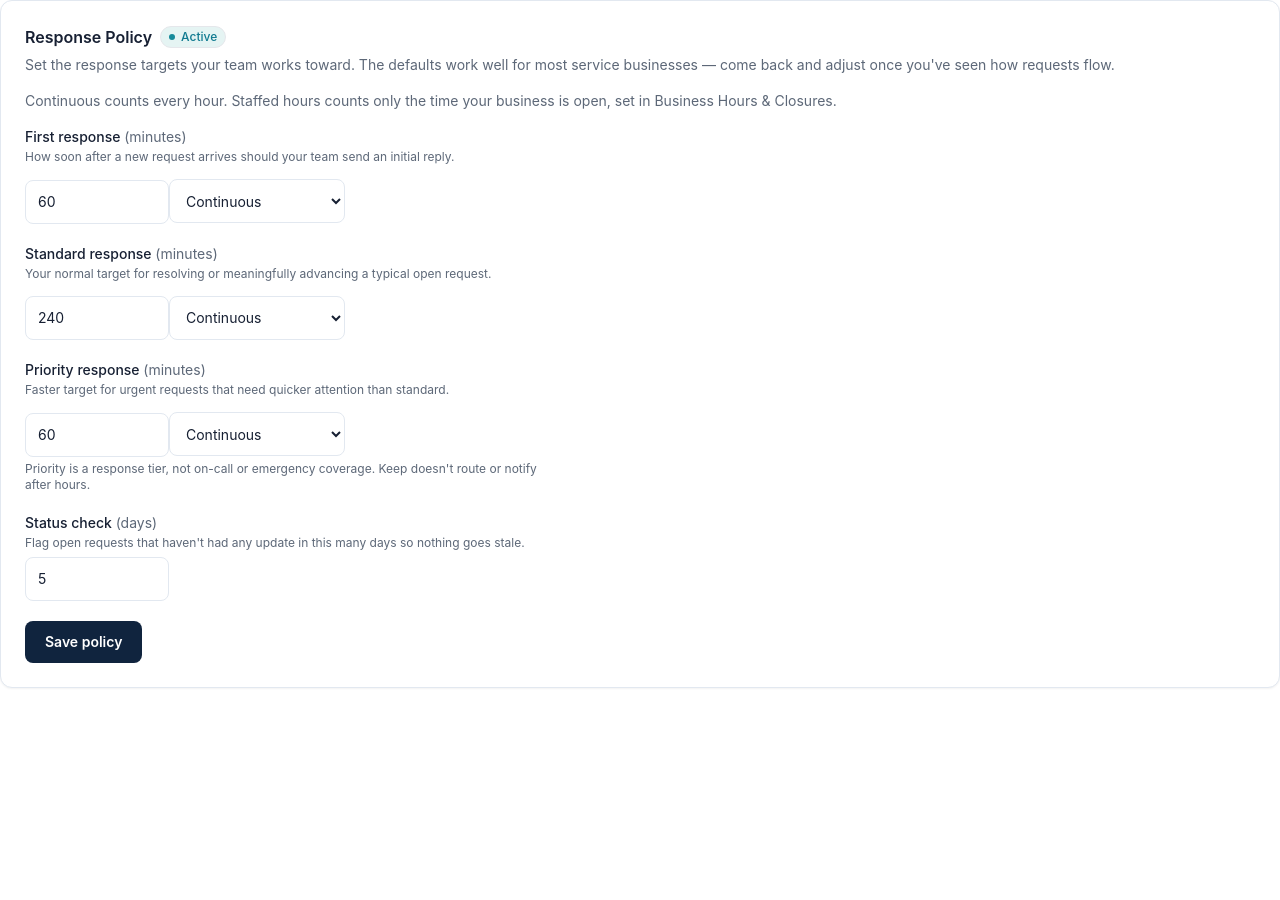
Scenario: PolicySection settingsVersion › sends the current settingsVersion with the save
The width and height of the screenshot is (1280, 900).
Expected: the button "Save policy" is shown, top-left (25, 620), bottom-right (142, 662)
Replace the text in the number field below "First response" with "30" at x=97, y=202, box top-left (25, 180), bottom-right (169, 224)
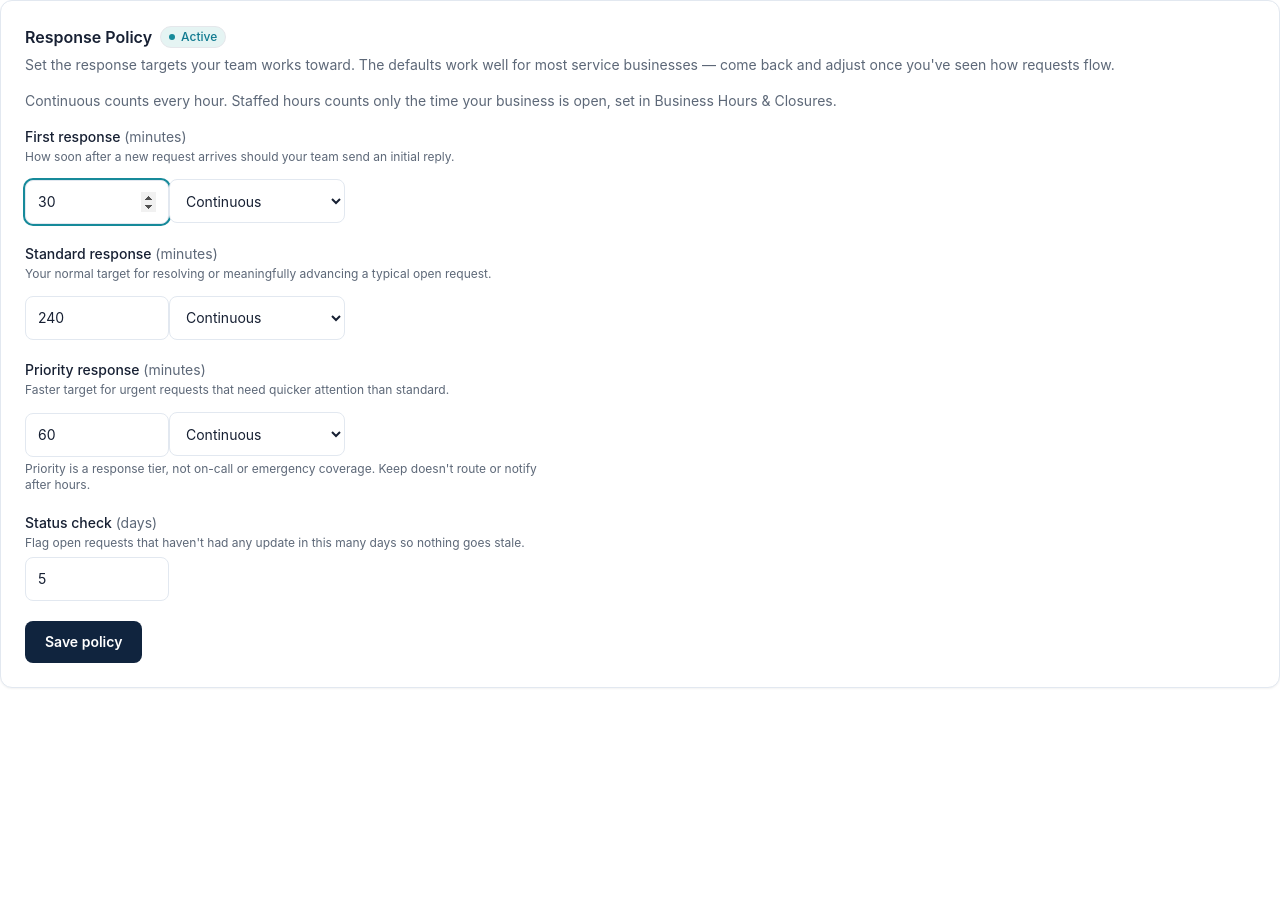
Click the button "Save policy" at x=84, y=642, box top-left (25, 620), bottom-right (142, 662)
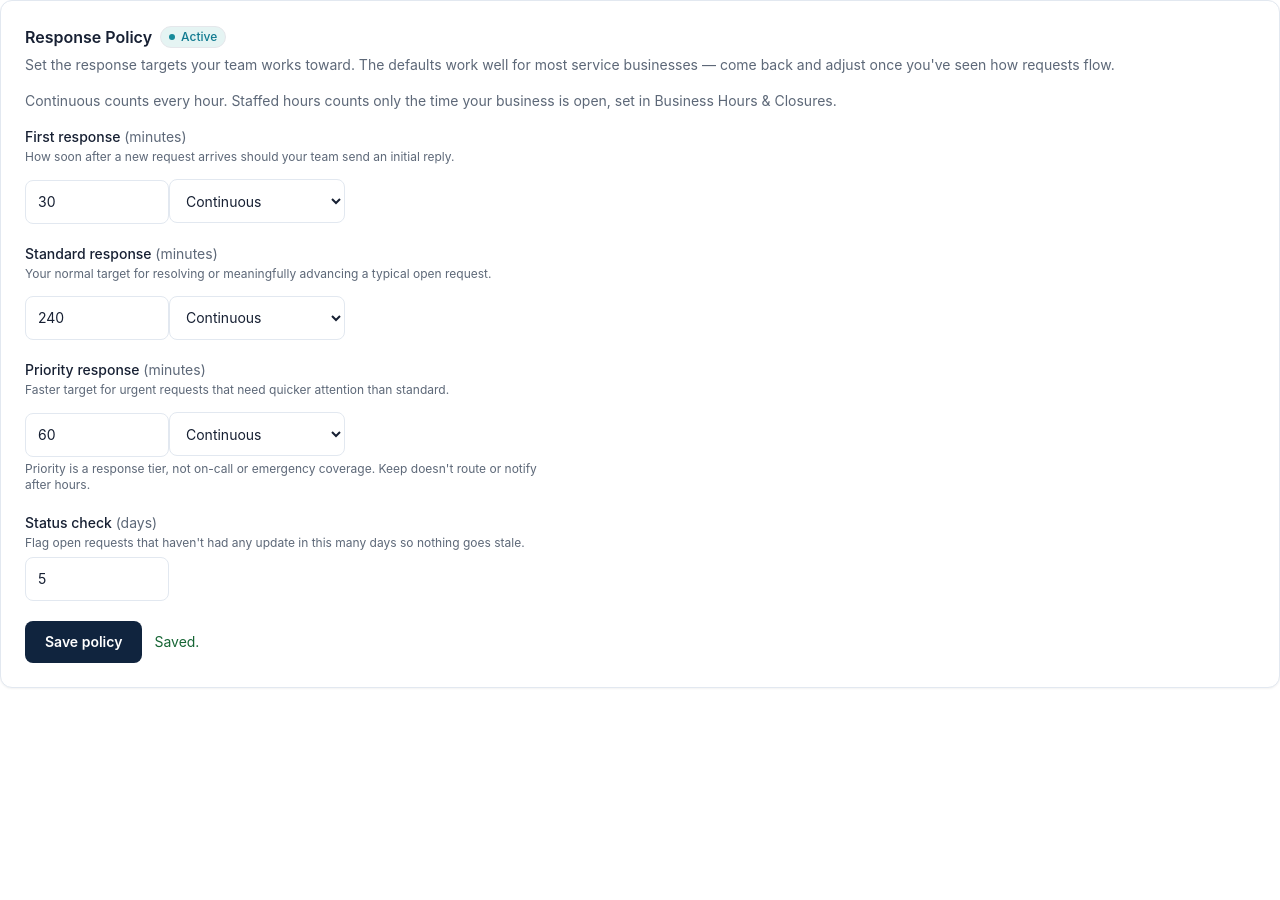
Expected: the text "Saved." is shown, top-left (154, 632), bottom-right (199, 652)
